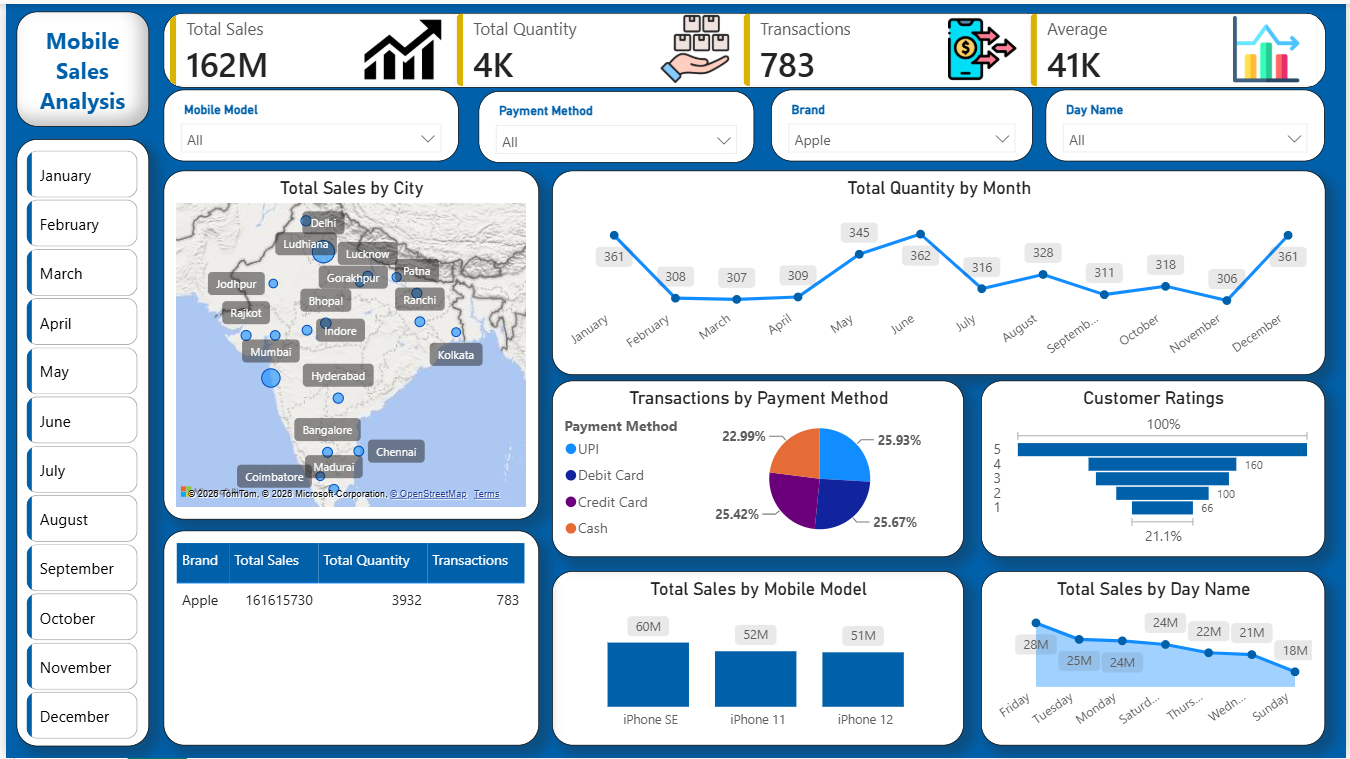

The dashboard page shown, as its layout file describes it:
{"tool":"powerbi","page":{"name":"Page 1","canvas":[1280,720],"ordinal":0},"visuals":[{"type":"shape","box":[10,128.3,126.7,580],"z":0},{"type":"advancedSlicerVisual","fields":{"Values":["Mobile_Sales_Data.Date.Variation.Date Hierarchy.Month"]},"box":[15,135,116.7,573.3],"z":1000},{"type":"map","fields":{"Category":["Mobile_Sales_Data.City"],"Size":["Mobile_Sales_Data.Total Sales"]},"box":[150,158.3,358.3,333.3],"z":2000},{"type":"lineChart","fields":{"Y":["Mobile_Sales_Data.Total Quantity"],"Category":["Mobile_Sales_Data.Date.Variation.Date Hierarchy.Month","Mobile_Sales_Data.Date.Variation.Date Hierarchy.Day"]},"box":[521.7,158.3,738.3,195],"z":3000},{"type":"clusteredColumnChart","fields":{"Category":["Mobile_Sales_Data.Mobile Model"],"Y":["Mobile_Sales_Data.Total Sales"]},"box":[521.7,541.7,393.3,166.7],"z":4000},{"type":"textbox","box":[10,6.7,126.7,110],"z":5000},{"type":"pieChart","fields":{"Category":["Mobile_Sales_Data.Payment Method"],"Y":["Mobile_Sales_Data.Transactions"]},"box":[521.7,360,393.3,168.3],"z":6000},{"type":"funnel","title":"Customer Ratings","fields":{"Category":["Mobile_Sales_Data.Customer Ratings"],"Y":["CountNonNull(Mobile_Sales_Data.Customer Ratings)"]},"box":[931.7,360,328.3,168.3],"z":7000},{"type":"areaChart","fields":{"Category":["Mobile_Sales_Data.Day Name"],"Y":["Mobile_Sales_Data.Total Sales"]},"box":[931.7,541.7,328.3,166.7],"z":8000},{"type":"tableEx","fields":{"Values":["Mobile_Sales_Data.Brand","Mobile_Sales_Data.Total Sales","Mobile_Sales_Data.Total Quantity","Mobile_Sales_Data.Transactions"]},"box":[150,503.3,358.3,205],"z":9000},{"type":"slicer","fields":{"Values":["Mobile_Sales_Data.Mobile Model"]},"box":[150,81.7,281.7,68.3],"z":10000},{"type":"slicer","fields":{"Values":["Mobile_Sales_Data.Payment Method"]},"box":[451.7,83.3,263.3,68.3],"z":11000},{"type":"slicer","fields":{"Values":["Mobile_Sales_Data.Brand"]},"box":[730,81.7,250,68.3],"z":12000},{"type":"slicer","fields":{"Values":["Mobile_Sales_Data.Day Name"]},"box":[993.3,81.7,266.7,68.3],"z":13000},{"type":"cardVisual","fields":{"Data":["Mobile_Sales_Data.Total Sales","Mobile_Sales_Data.Total Quantity","Mobile_Sales_Data.Transactions","Mobile_Sales_Data.Average"]},"box":[150,8,1110,71],"z":14000},{"type":"image","box":[625,5,66.7,76.7],"z":15000},{"type":"image","box":[1161.7,11.7,83.3,63.3],"z":16000},{"type":"image","box":[900,1.7,65,83.3],"z":17000},{"type":"image","box":[341.7,3.3,73.3,81.7],"z":18000}]}

Visuals, with their boxes in screenshot pixels (x1, y1, x2, y2), scaled from the page's 1280x720 canvas onto the 1350x759 screenshot:
shape: 11,135,144,747
advancedSlicerVisual - Mobile_Sales_Data.Date.Variation.Date Hierarchy.Month: 16,142,139,747
map - Mobile_Sales_Data.City x Mobile_Sales_Data.Total Sales: 158,167,536,518
lineChart - Mobile_Sales_Data.Total Quantity x Mobile_Sales_Data.Date.Variation.Date Hierarchy.Month: 550,167,1329,372
clusteredColumnChart - Mobile_Sales_Data.Mobile Model x Mobile_Sales_Data.Total Sales: 550,571,965,747
textbox: 11,7,144,123
pieChart - Mobile_Sales_Data.Payment Method x Mobile_Sales_Data.Transactions: 550,380,965,557
"Customer Ratings" funnel: 983,380,1329,557
areaChart - Mobile_Sales_Data.Day Name x Mobile_Sales_Data.Total Sales: 983,571,1329,747
tableEx - Mobile_Sales_Data.Brand x Mobile_Sales_Data.Total Sales: 158,531,536,747
slicer - Mobile_Sales_Data.Mobile Model: 158,86,455,158
slicer - Mobile_Sales_Data.Payment Method: 476,88,754,160
slicer - Mobile_Sales_Data.Brand: 770,86,1034,158
slicer - Mobile_Sales_Data.Day Name: 1048,86,1329,158
cardVisual - Mobile_Sales_Data.Total Sales x Mobile_Sales_Data.Total Quantity: 158,8,1329,83
image: 659,5,730,86
image: 1225,12,1313,79
image: 949,2,1018,90
image: 360,3,438,90
